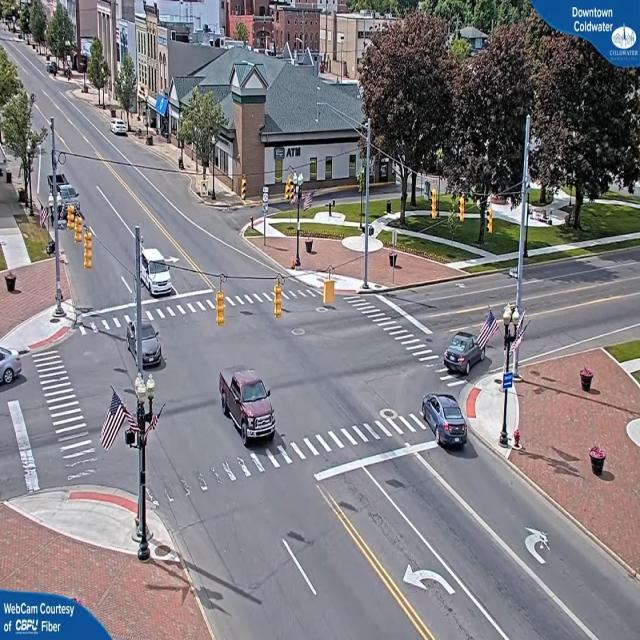car: (221, 370, 277, 440), (422, 393, 468, 450), (444, 331, 486, 376), (138, 245, 172, 298), (125, 322, 162, 368), (1, 344, 24, 390), (112, 121, 128, 136)
